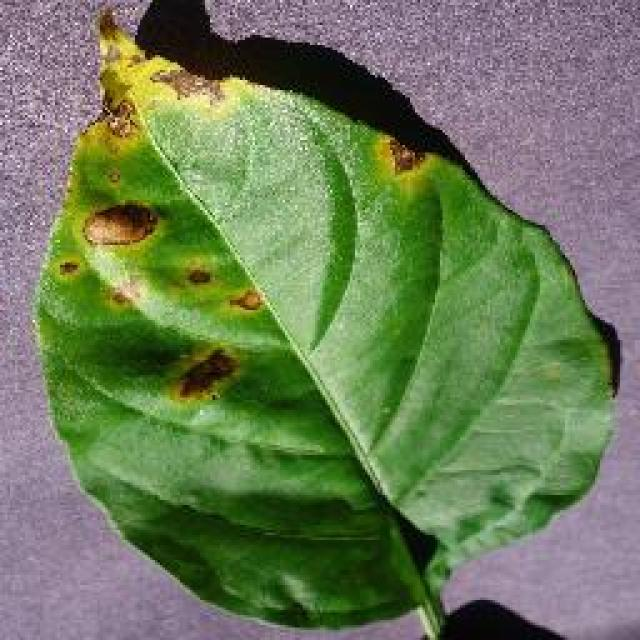Chilli_Bacterial_Spot: (28, 3, 620, 635), (32, 3, 272, 415), (52, 192, 270, 408), (168, 343, 242, 405), (78, 198, 160, 250), (145, 60, 225, 108), (95, 92, 140, 142), (380, 132, 428, 178), (90, 3, 122, 45), (223, 285, 265, 315), (180, 260, 215, 290), (53, 252, 85, 282), (103, 282, 135, 312)
